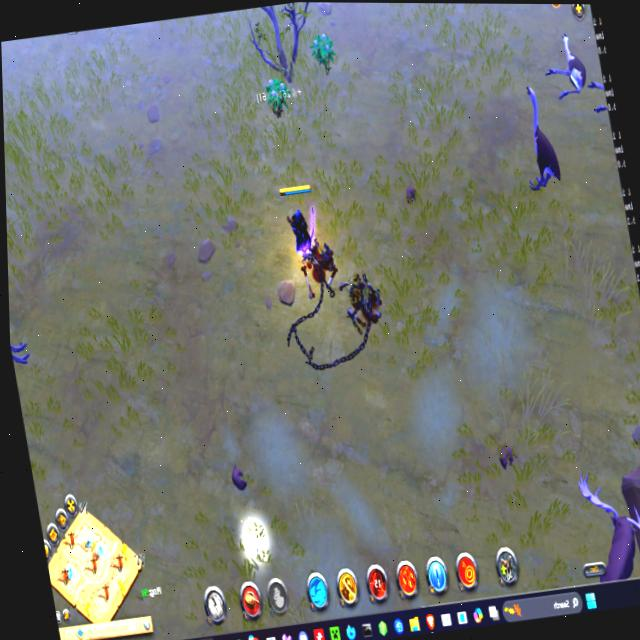hide: (261, 70, 295, 124), (308, 27, 341, 80)
mob: (539, 25, 592, 107)
ore: (569, 451, 640, 578), (503, 75, 570, 199), (8, 254, 36, 376)
red: (275, 176, 328, 268)
